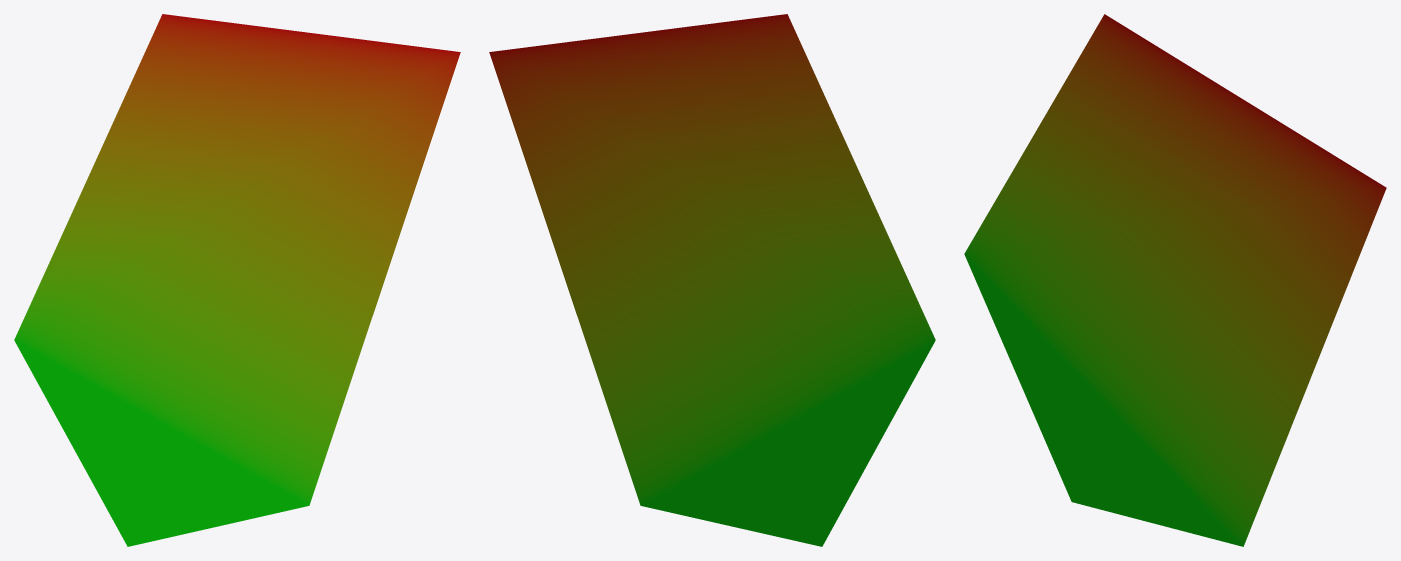
The model's file is Var13_LOD4.fbx.
3 renders of one model, left to right at view 1: azimuth 30°, elevation 25°; view 2: azimuth 150°, elevation 25°; view 3: azimuth 330°, elevation 25°, orthographic. The views are drawn at different scales.
Visible parts, largest first — view 1: _07cc_Var13_LOD4; view 2: _07cc_Var13_LOD4; view 3: _07cc_Var13_LOD4.
Part boxes in pixels (left/top/right/bottom): _07cc_Var13_LOD4: left=14, top=14, right=460, bottom=546; _07cc_Var13_LOD4: left=489, top=14, right=935, bottom=546; _07cc_Var13_LOD4: left=964, top=14, right=1386, bottom=546.
Size of the model in its own units: 12.83 by 14.49 by 9.83e-07.
